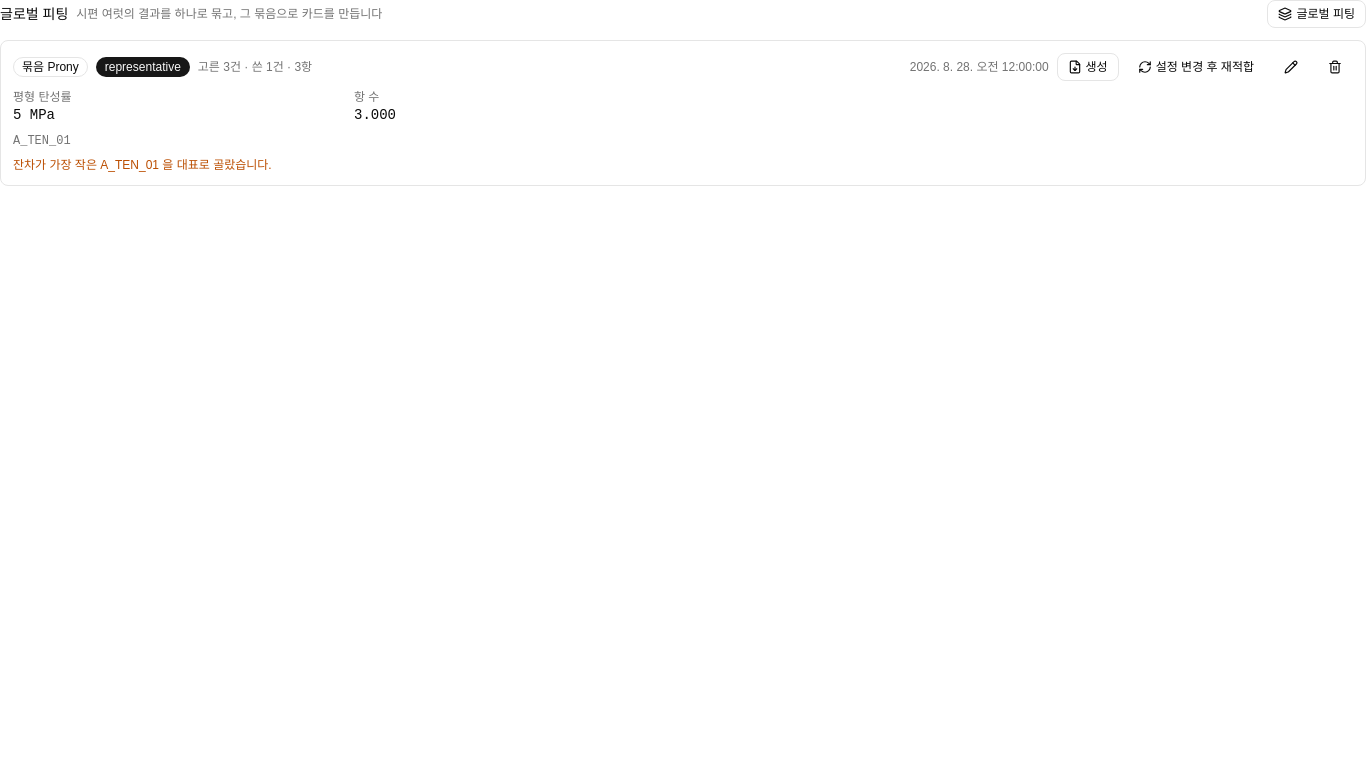
Test: 쓰기 쉽게 › 고른 방법의 설명만 보인다
This screenshot has width=1366, height=768.
Expected: the text "고른 3건 · 쓴 1건 · 3항" is shown, [198,59,312,75]
Click the button "글로벌 피팅": (1317, 14) [1268,0,1365,28]
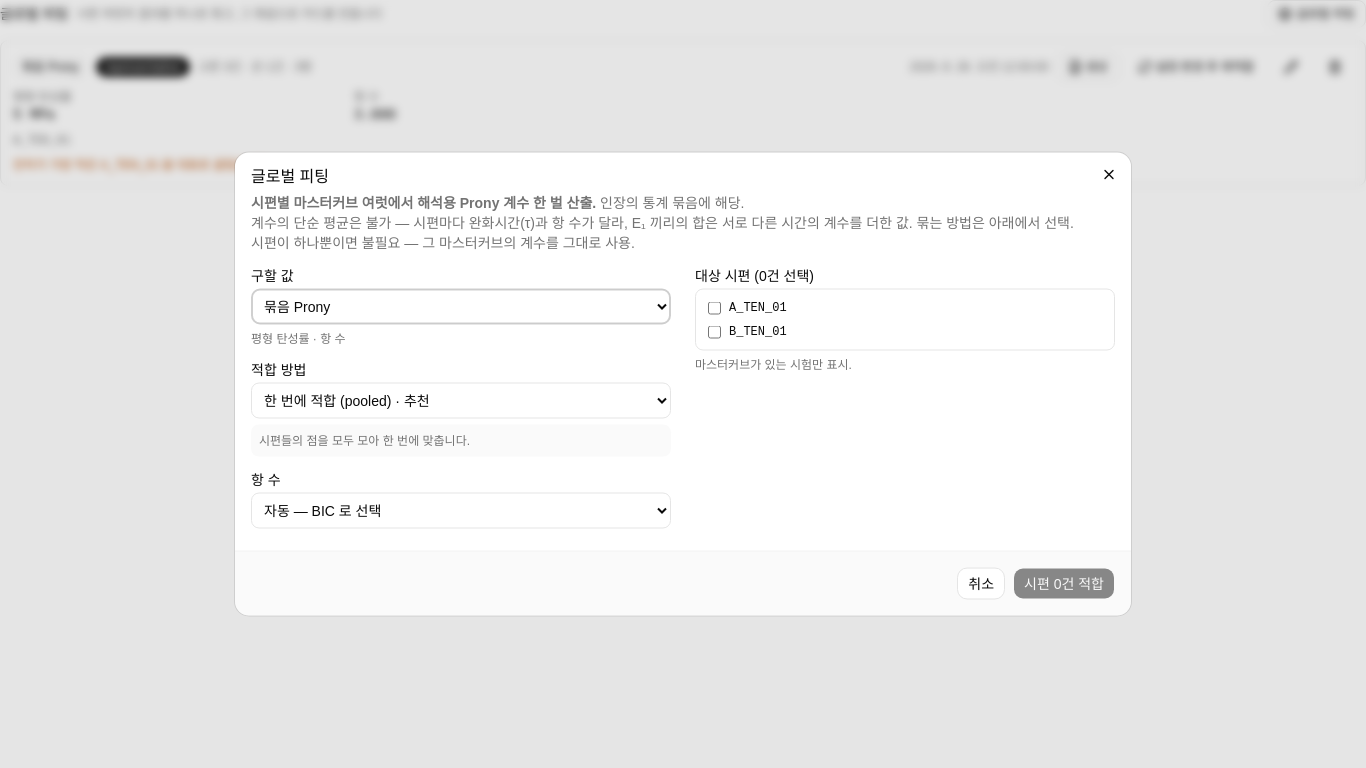
Expected: the text "시편마다 맞춘 뒤 계수를 평균" is not shown
Expected: the text "시편들의 점을 모두 모아 한 번에 맞춥니다." is shown, [251,424,671,456]
Select "시편별 적합 후 평균 (averaged)" in the dropdown named "적합 방법": (461, 400) [251,382,671,418]
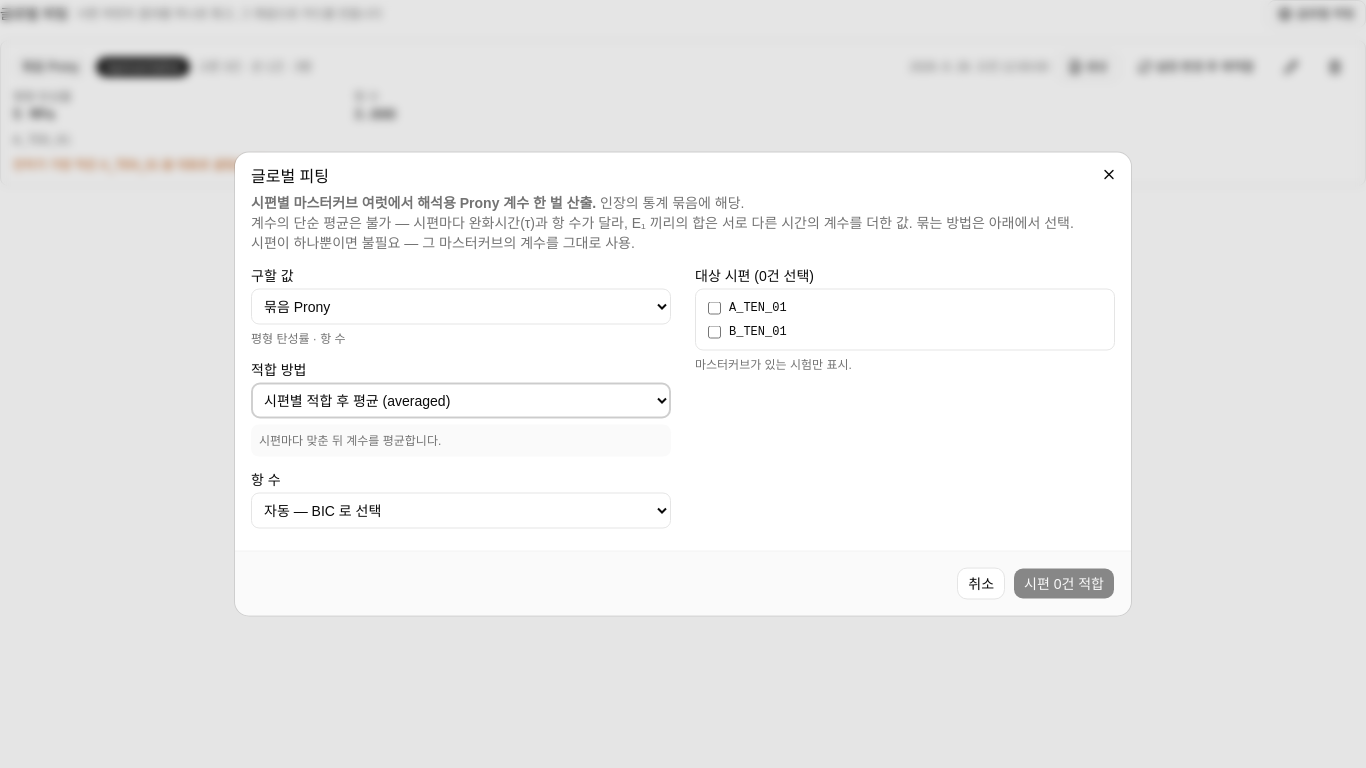
Expected: the text "시편마다 맞춘 뒤 계수를 평균합니다." is shown, [251,424,671,456]
Expected: the text "시편들의 점을 모두 모아" is gone
